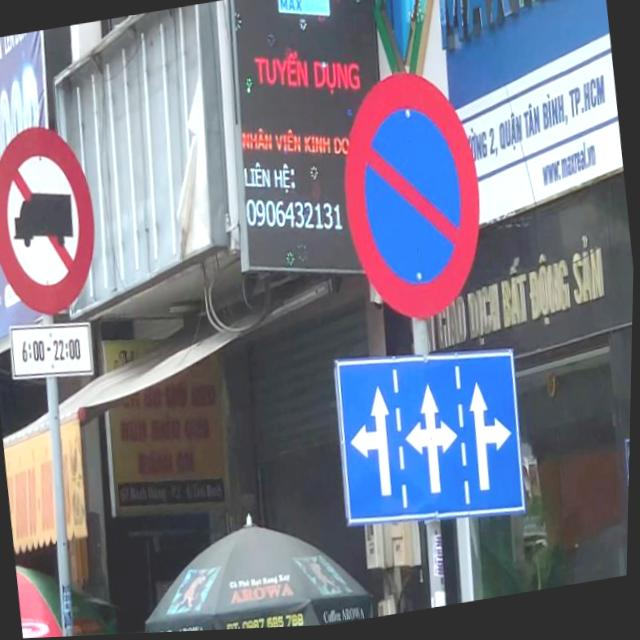Cam do xe: (329, 64, 498, 335)
Cam xe tai: (0, 117, 108, 324)
